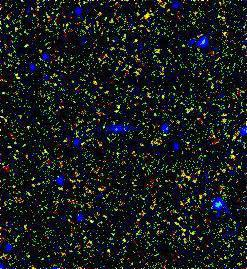star: (132, 0, 162, 29)
